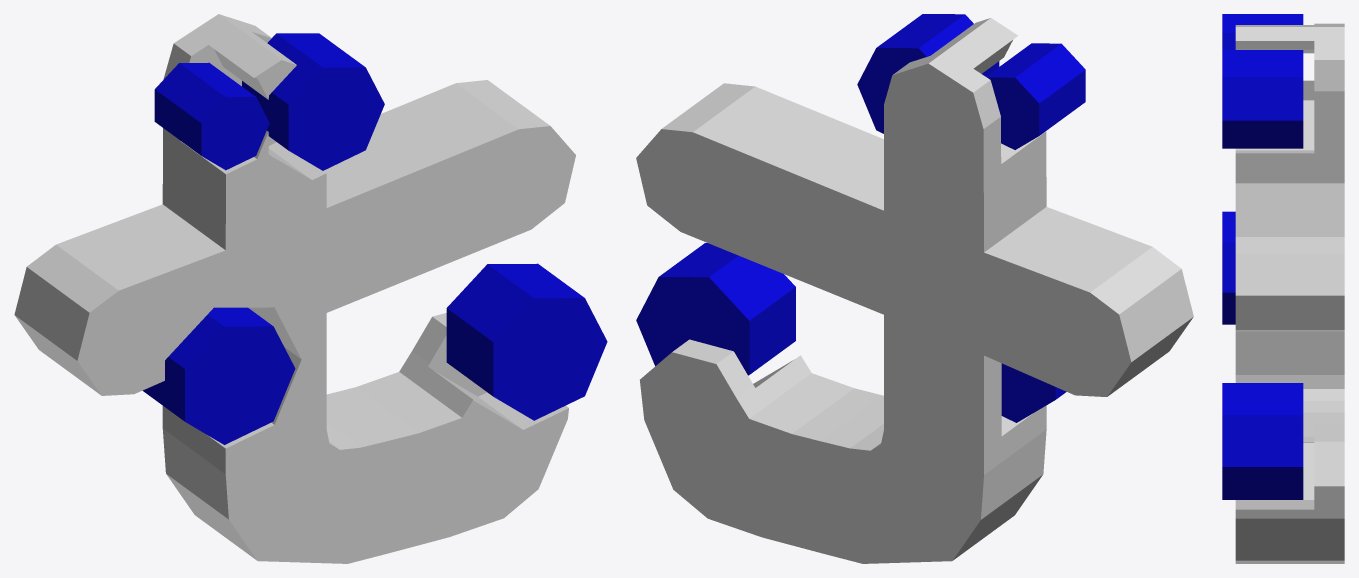
File: Ch_Lite_China_七_01.fbx
3 renders of one model, left to right at view 1: azimuth 30°, elevation 25°; view 2: azimuth 150°, elevation 25°; view 3: azimuth 270°, elevation 25°, orthographic. The views are drawn at different scales.
Visible parts, largest first — view 1: sphere1; view 2: sphere1; view 3: sphere1.
Part boxes in pixels (bbox=[...]): sphere1: bbox=[14, 14, 607, 563]; sphere1: bbox=[636, 14, 1193, 563]; sphere1: bbox=[1222, 14, 1344, 563].
Size of the model in its own units: 0.9582 by 0.9111 by 0.2242.
